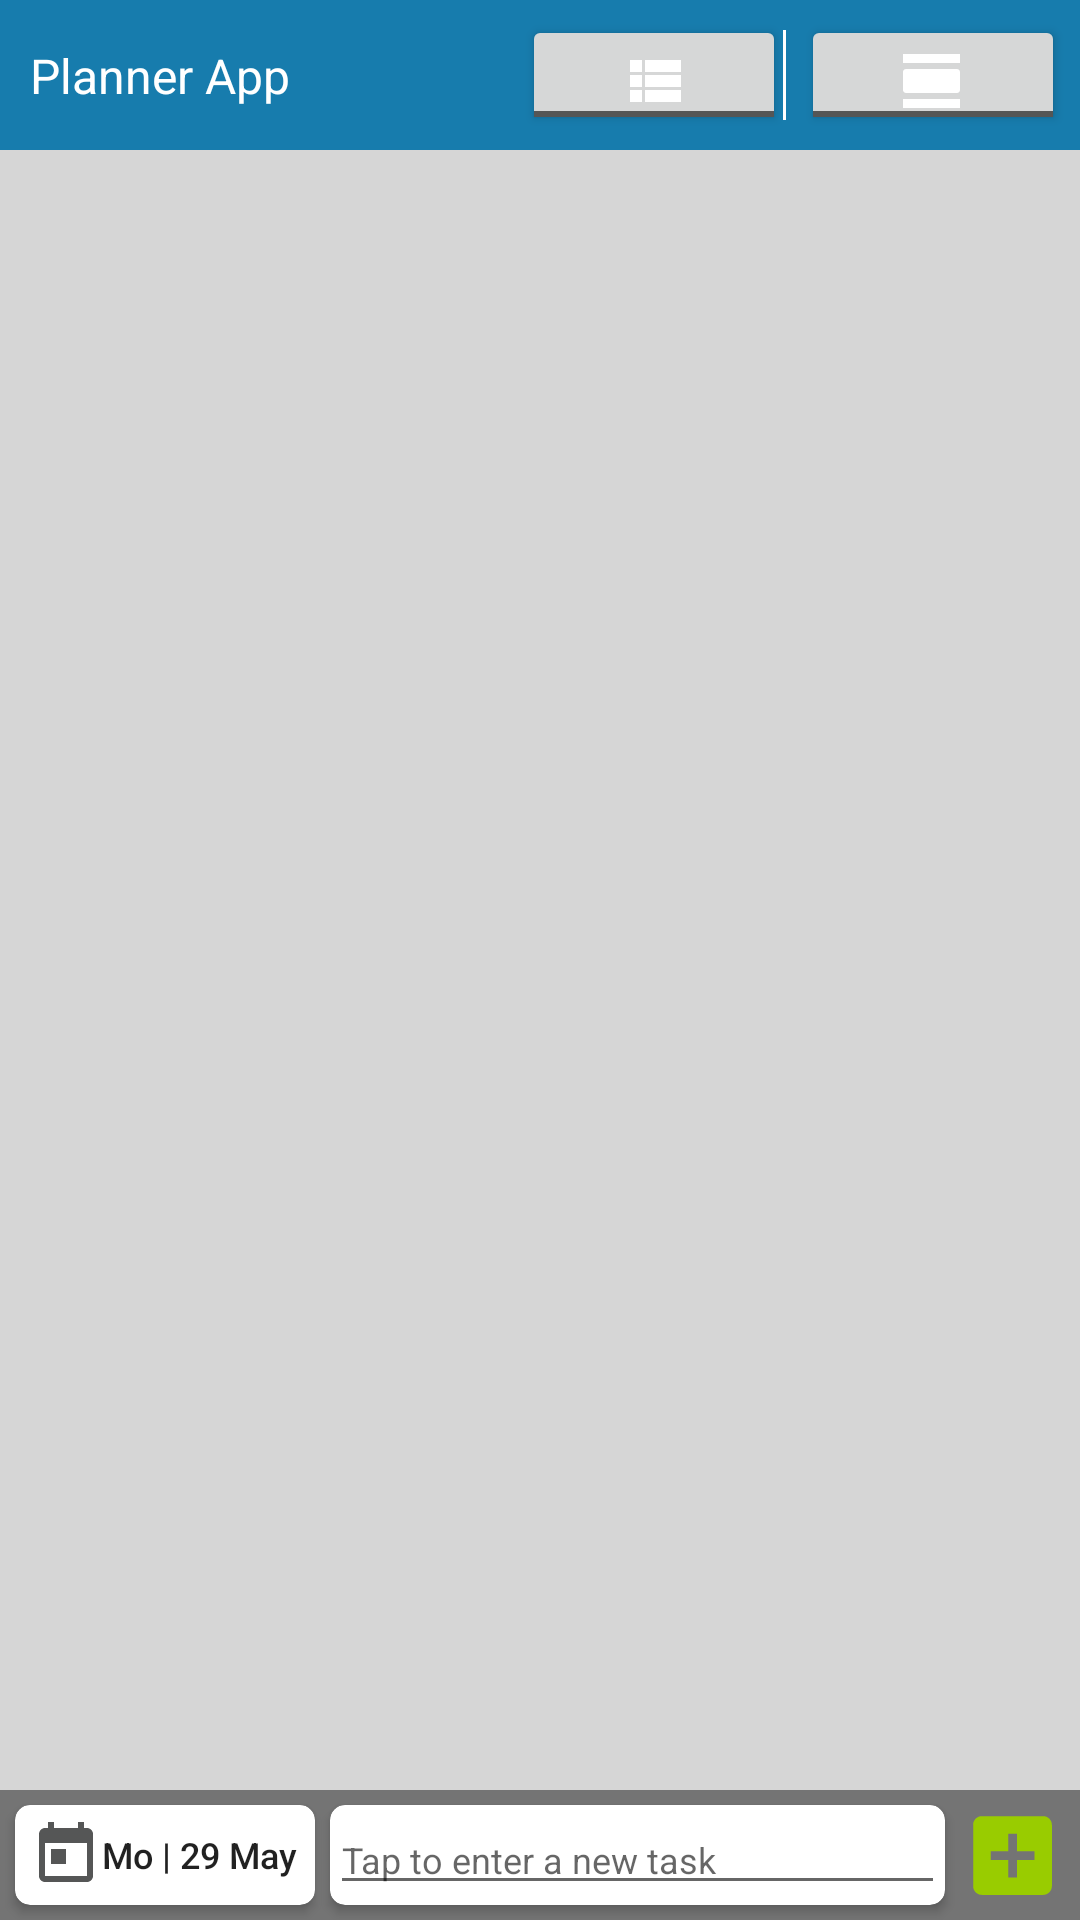

Locate icon controls on the screen. Image size 1080 x 1920, boxes as bbox=[x1, y1, x2, y2].
add: bbox=[973, 1816, 1052, 1895]
